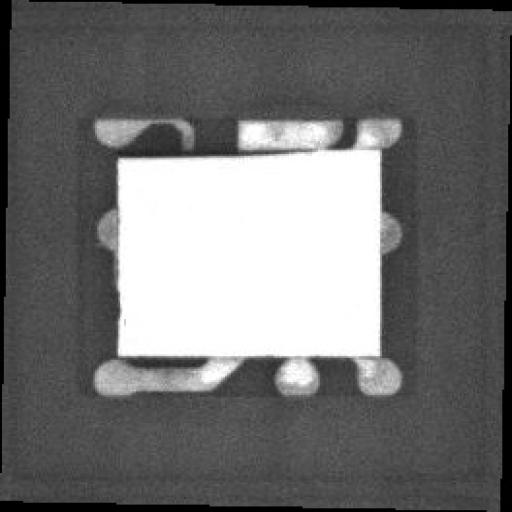DIE_BROKEN: (114, 145, 289, 156)
